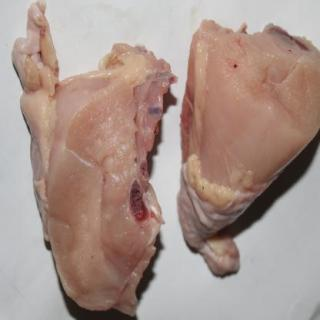Ayam: (13, 3, 176, 311), (179, 27, 320, 279)
